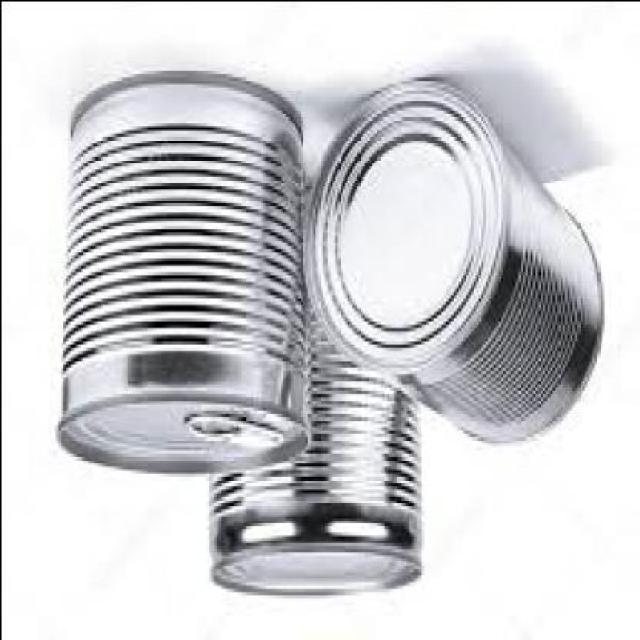METAL: (306, 76, 608, 450), (56, 76, 312, 476), (207, 188, 425, 600)
